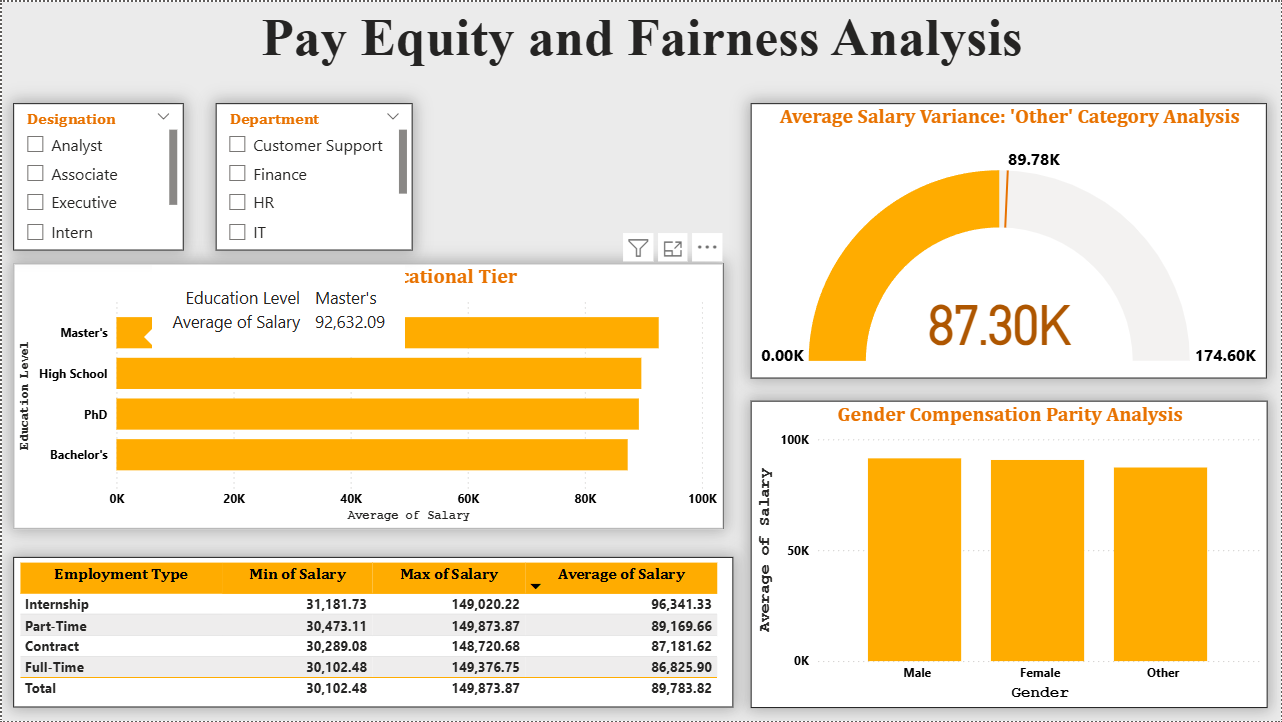

What the dashboard file says about the page in this screenshot:
{"tool":"powerbi","page":{"name":"Page 2","canvas":[1280,720],"ordinal":1},"visuals":[{"type":"textbox","box":[0,0,1280,74.3],"z":0},{"type":"clusteredColumnChart","title":"Gender Compensation Parity Analysis","fields":{"Category":["Sheet1.Gender"],"Y":["Avg(Sheet1.Salary)"]},"box":[748.6,398.6,517.1,307.1],"z":1000},{"type":"clusteredBarChart","title":"Mean Salary by Educational Tier","fields":{"Y":["Avg(Sheet1.Salary)"],"Category":["Sheet1.Education Level"]},"box":[11.4,261.4,710,265.7],"z":2000},{"type":"tableEx","fields":{"Values":["Sheet1.Employment Type","Min(Sheet1.Salary)1","Max(Sheet1.Salary)2","Avg(Sheet1.Salary)"]},"box":[11.2,555,720,150],"z":3000},{"type":"gauge","title":"Average Salary Variance: ''Other'' Category Analysis","fields":{"Y":["Sheet1.Avg Salary Other"],"TargetValue":["Avg(Sheet1.Salary)"]},"box":[748.8,101.2,516.2,275],"z":4000},{"type":"slicer","fields":{"Values":["Sheet1.Designation"]},"box":[11.4,101.4,170,147.1],"z":5000},{"type":"slicer","fields":{"Values":["Sheet1.Department"]},"box":[214.3,101.4,197.1,147.1],"z":6000}]}

Visuals, with their boxes in screenshot pixels (x1, y1, x2, y2), scaled from the page's 1280x720 canvas onto the 1282x722 screenshot:
textbox: left=0, top=0, right=1281, bottom=75
"Gender Compensation Parity Analysis" clusteredColumnChart: left=750, top=400, right=1268, bottom=708
"Mean Salary by Educational Tier" clusteredBarChart: left=11, top=262, right=723, bottom=529
tableEx - Sheet1.Employment Type x Min(Sheet1.Salary)1: left=11, top=557, right=732, bottom=707
"Average Salary Variance: ''Other'' Category Analysis" gauge: left=750, top=101, right=1267, bottom=377
slicer - Sheet1.Designation: left=11, top=102, right=182, bottom=249
slicer - Sheet1.Department: left=215, top=102, right=412, bottom=249
